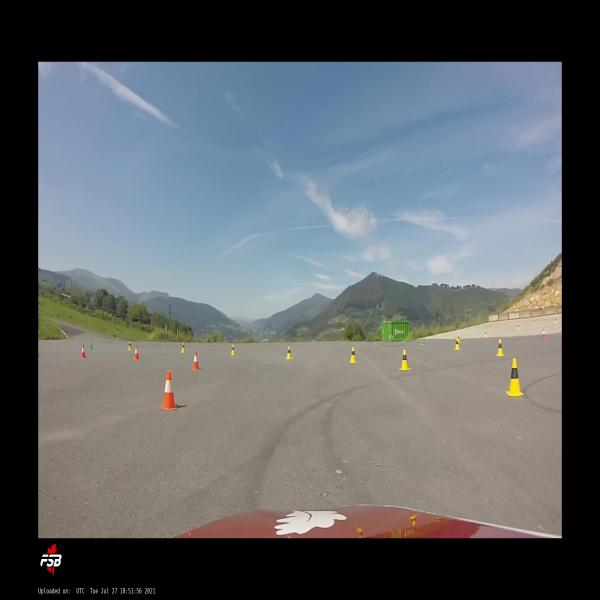orange_cone: (160, 370, 178, 411), (193, 352, 199, 370), (133, 346, 139, 360), (81, 344, 86, 358), (542, 329, 546, 339)
unknown_cone: (89, 340, 93, 349)
yellow_cone: (506, 358, 524, 397), (398, 350, 410, 370), (495, 339, 505, 357), (349, 347, 357, 363), (285, 346, 293, 359), (454, 337, 460, 350), (231, 344, 235, 356), (181, 342, 185, 353), (128, 340, 131, 350), (458, 334, 461, 343), (484, 330, 487, 338), (517, 323, 519, 330), (555, 317, 556, 324)
